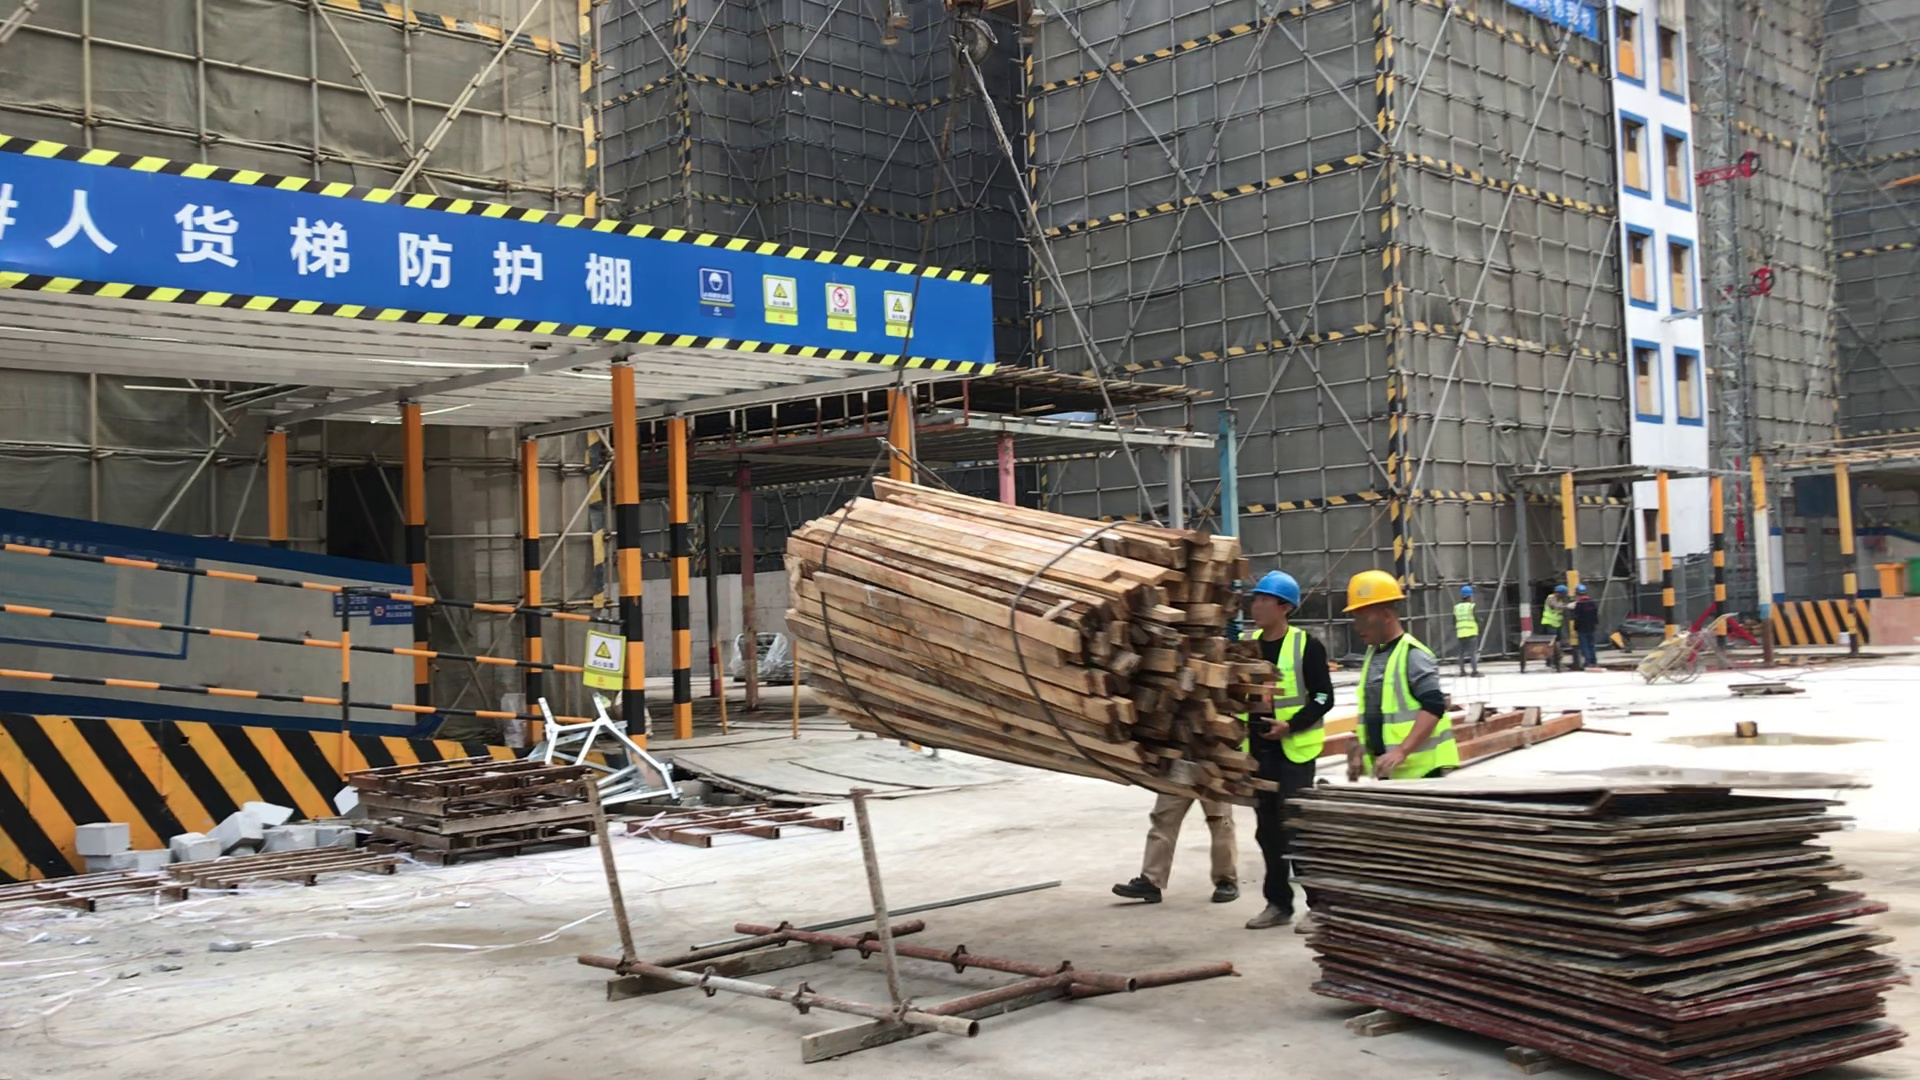board: (1269, 738, 1920, 1075)
brick: (67, 795, 363, 893)
fence: (3, 518, 656, 757)
handcart: (1622, 607, 1733, 696), (1514, 626, 1565, 676)
helmet: (1344, 564, 1415, 622), (1247, 558, 1311, 618), (1567, 579, 1595, 601), (1550, 581, 1571, 601), (1458, 581, 1480, 599)
hook: (871, 5, 1056, 96)
person: (1232, 560, 1346, 933), (1328, 570, 1465, 784), (1454, 580, 1493, 683), (1570, 581, 1606, 677), (1540, 576, 1569, 665)
slogan: (2, 116, 1021, 426), (2, 481, 435, 732), (578, 616, 631, 705), (1492, 3, 1604, 43)
vest: (1345, 631, 1467, 780), (1241, 620, 1336, 770), (1536, 593, 1565, 632), (1452, 601, 1479, 639)
wood: (783, 458, 1271, 828)
